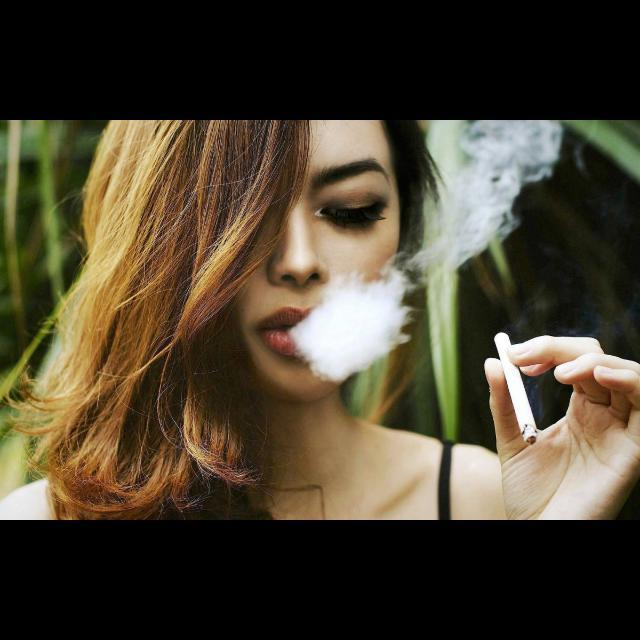rokok: (492, 328, 544, 452)
